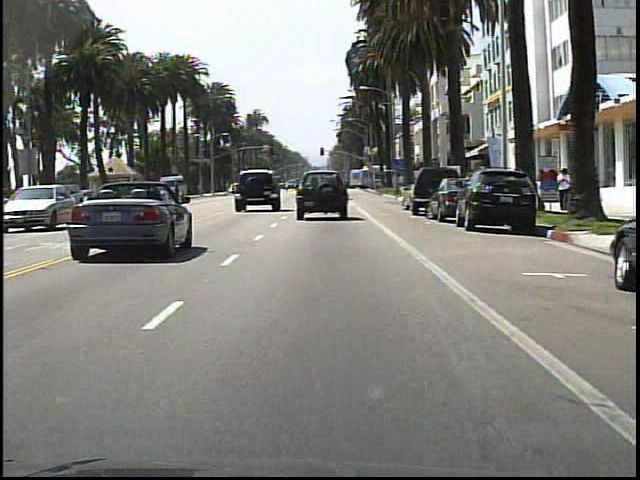person: (554, 166, 570, 214)
